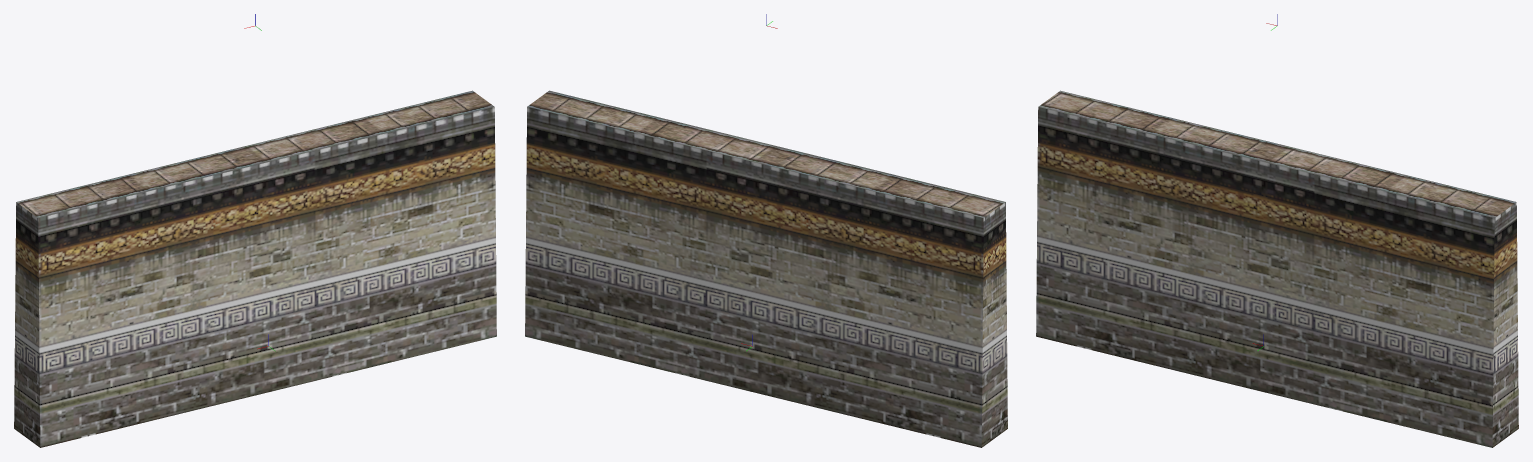
Rendered from greek-wall-long.glb.
3 renders of one model, left to right at view 1: azimuth 30°, elevation 25°; view 2: azimuth 150°, elevation 25°; view 3: azimuth 330°, elevation 25°, orthographic.
Visible parts, largest first — view 1: building g wall longModel; view 2: building g wall longModel; view 3: building g wall longModel.
Part boxes in pixels (x1=…): building g wall longModel: x1=14, y1=90, x2=496, y2=447; building g wall longModel: x1=525, y1=90, x2=1007, y2=447; building g wall longModel: x1=1036, y1=90, x2=1518, y2=447.
Size of the model in its own units: 10 by 7.71 by 1.53.
3 materials, 2 textured.
